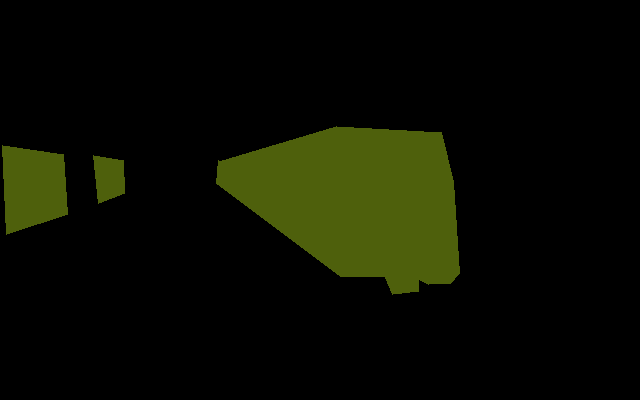Train: (216, 126, 460, 294), (2, 145, 124, 235)
